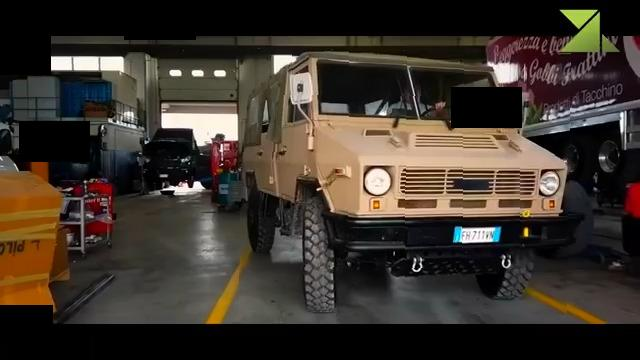MIL_HMMWV: (241, 50, 571, 314)
